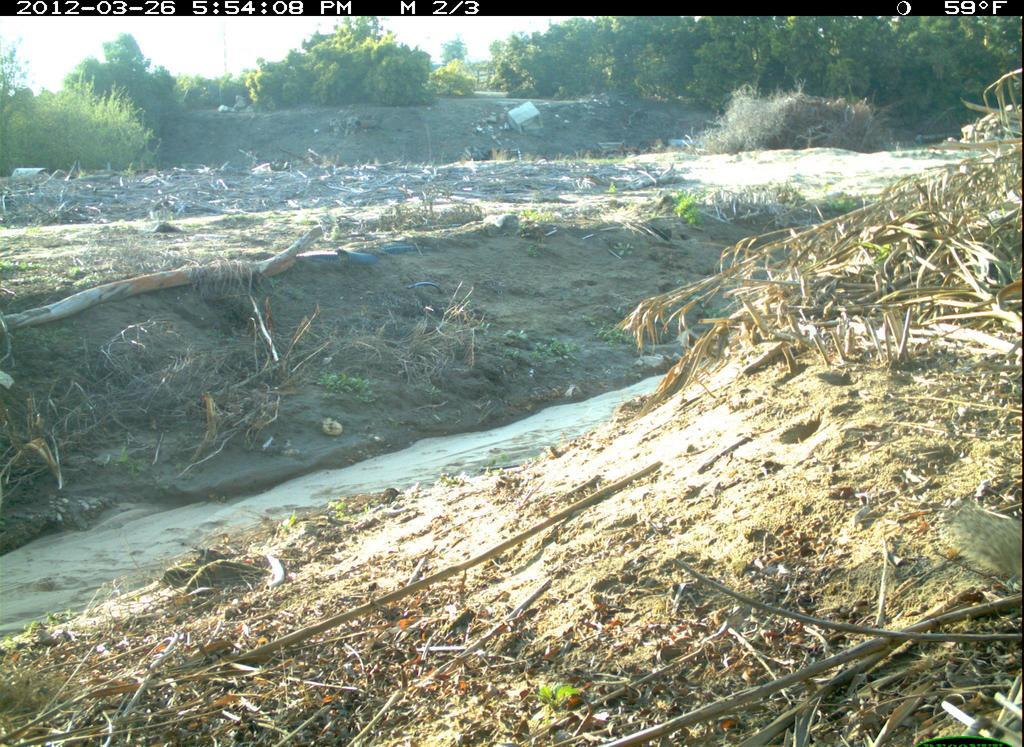squirrel: (921, 487, 1024, 591)
